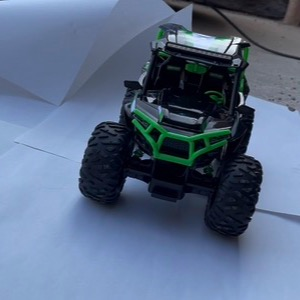polaris: (77, 23, 265, 239)
